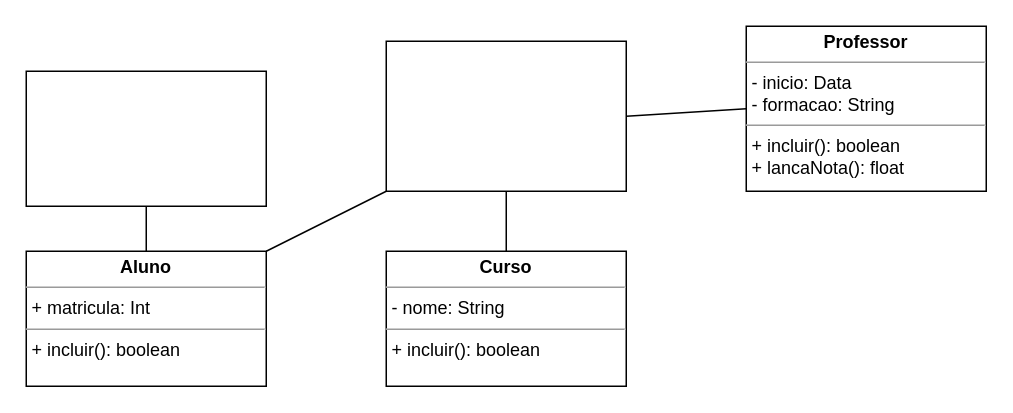
The diagram is 1013 pixels wide and 413 high, and some of its shapes have lost their labels. Each missing label, with the centre of its shape:
"Disciplina - nome: String - cargahorario: Int + incluir(): boolean" goes at pixel 505 115.
"Turma - horario: Datetime + incluir(): boolean" goes at pixel 145 138.
